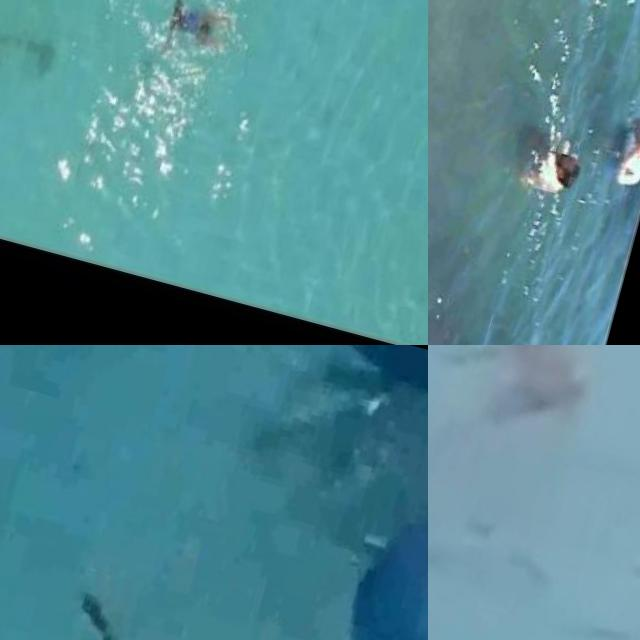drowning: (437, 345, 640, 487), (24, 568, 280, 640)
swimming: (502, 102, 590, 202), (597, 96, 640, 203), (158, 0, 233, 60)
